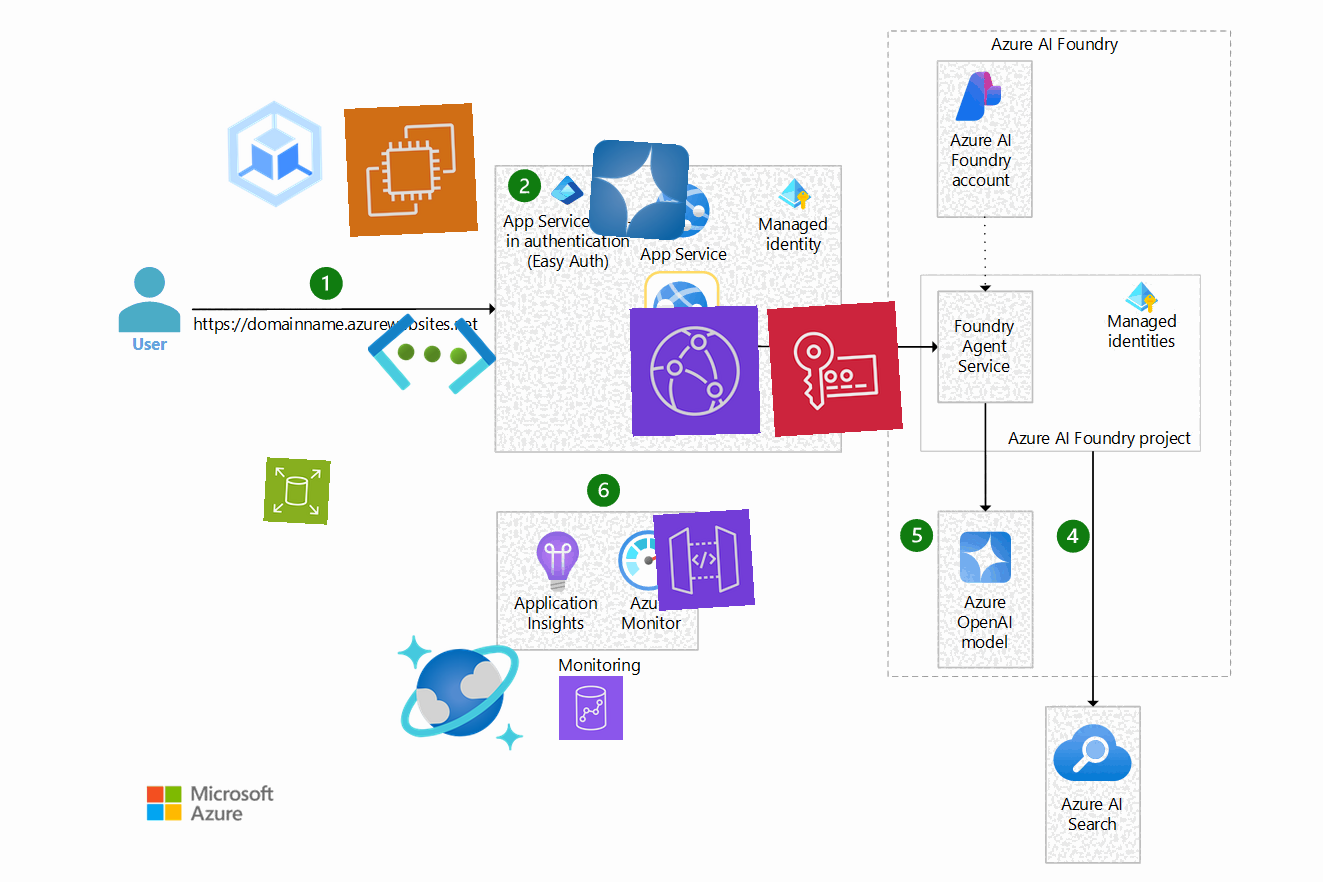aws_amazon_api_gateway: (653, 509, 755, 611)
aws_amazon_cloudfront: (629, 305, 761, 437)
aws_amazon_ec2: (344, 103, 478, 237)
aws_amazon_elastic_block_store: (263, 457, 331, 525)
aws_amazon_redshift: (558, 675, 624, 741)
aws_key_management_service: (767, 301, 903, 437)
azure_cosmos_db: (392, 625, 528, 761)
azure_openai: (587, 138, 691, 242)
azure_virtual_networks: (363, 285, 501, 423)
gcp_google_kubernetes_engine: (209, 88, 341, 220)
